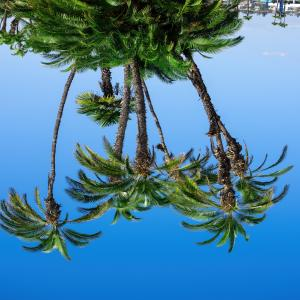palm tree: (1, 0, 293, 260)
